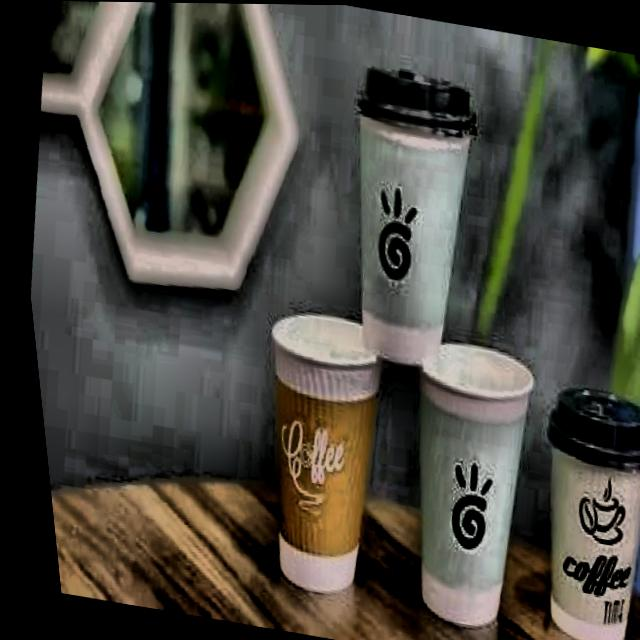Cup: (359, 311, 557, 640), (299, 54, 499, 377), (215, 299, 405, 605), (498, 368, 640, 640)
